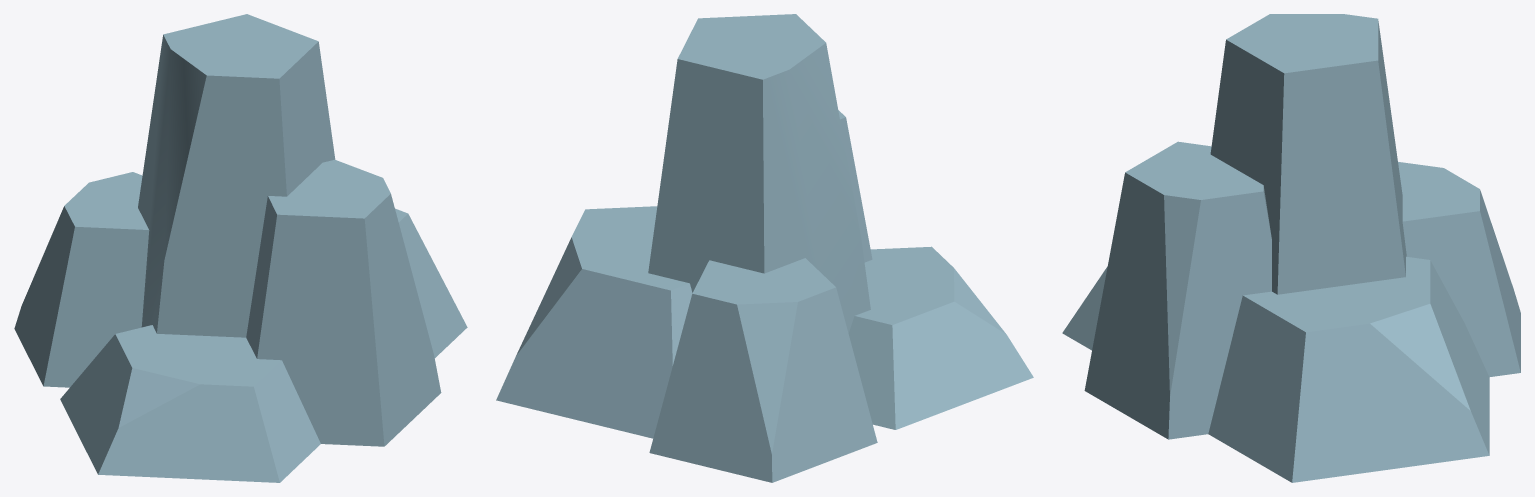
The model's file is rockLarge.obj.
3 views of the same model, side by side, from view 1: azimuth 30°, elevation 25°; view 2: azimuth 150°, elevation 25°; view 3: azimuth 270°, elevation 25° (orthographic). The views are drawn at different scales.
Visible parts, largest first — view 1: rockLarge; view 2: rockLarge; view 3: rockLarge.
Boxes of the visible parts, x1=… form: rockLarge: x1=14, y1=14, x2=467, y2=482; rockLarge: x1=496, y1=14, x2=1033, y2=482; rockLarge: x1=1062, y1=14, x2=1520, y2=482.
Bounding box in the file's own units: 1.6 × 1.16 × 1.45.
